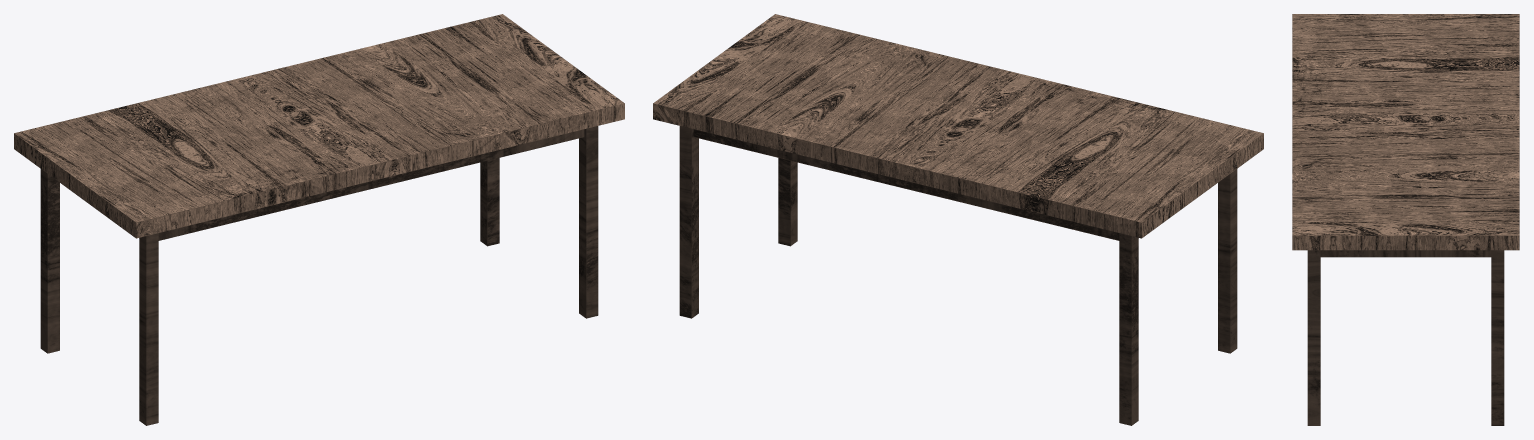
The model's file is Table.fbx.
3 renders of one model, left to right at view 1: azimuth 30°, elevation 25°; view 2: azimuth 150°, elevation 25°; view 3: azimuth 270°, elevation 25°, orthographic. The views are drawn at different scales.
Parts seen in each view (by area): view 1: Table_Baked; view 2: Table_Baked; view 3: Table_Baked.
Boxes of the visible parts, x1=… form: Table_Baked: x1=14, y1=14, x2=624, y2=425; Table_Baked: x1=653, y1=14, x2=1263, y2=425; Table_Baked: x1=1292, y1=14, x2=1519, y2=425.
Size of the model in its own units: 200 by 83.6 by 86.61.
Materials: 1 (1 with a texture image).
